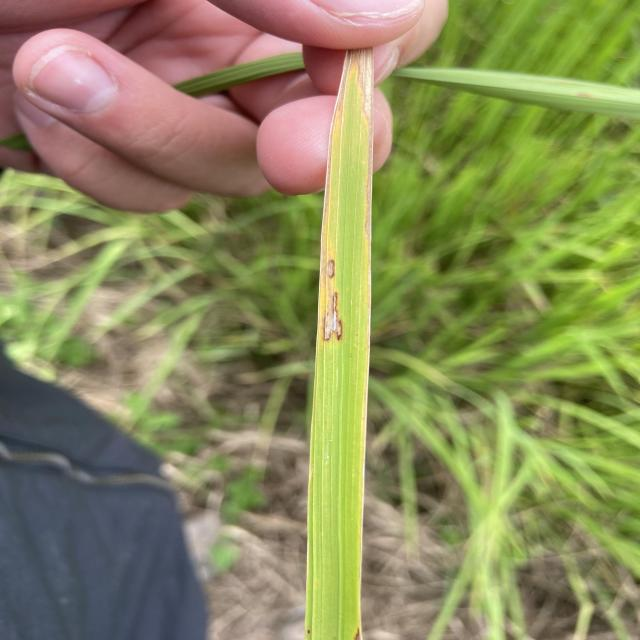Dao on: (322, 290, 343, 343), (325, 259, 336, 280)
